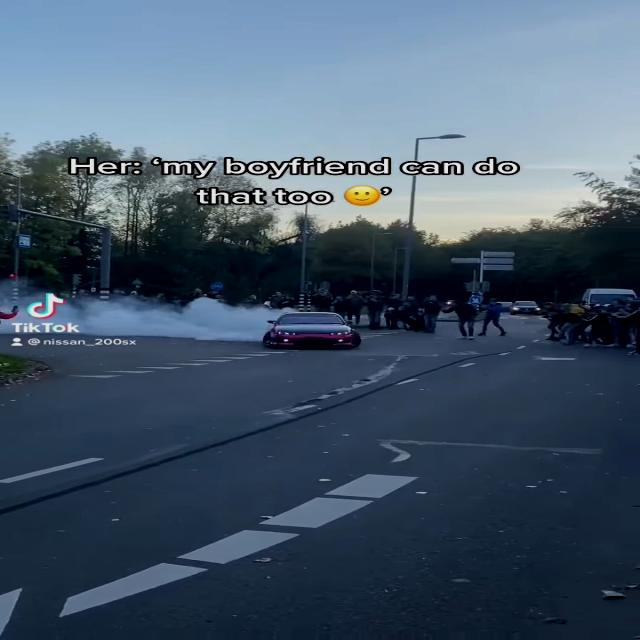car: (269, 313, 360, 355)
